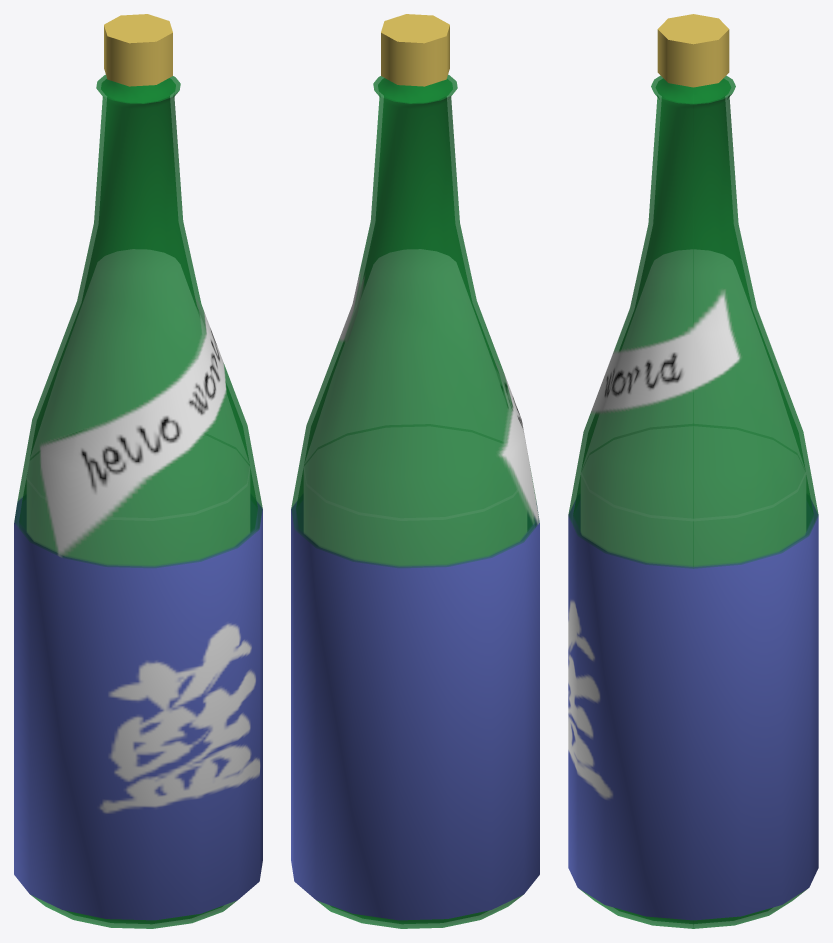
Rendered from issyoubin.glb.
The picture shows the model from 3 angles, left to right: view 1: azimuth 30°, elevation 25°; view 2: azimuth 150°, elevation 25°; view 3: azimuth 270°, elevation 25°; orthographic projection.
Parts seen in each view (by area): view 1: __X_BOTTLE__, Cylinder.001; view 2: __X_BOTTLE__, Cylinder.001, __X_LIQUID__Liquid; view 3: __X_BOTTLE__, Cylinder.001, __X_LIQUID__Liquid.
Boxes of the visible parts, <box> form: __X_BOTTLE__: <box>14,74,262,928</box>; Cylinder.001: <box>104,14,172,86</box>; __X_BOTTLE__: <box>291,74,539,928</box>; Cylinder.001: <box>381,14,449,86</box>; __X_LIQUID__Liquid: <box>304,468,517,520</box>; __X_BOTTLE__: <box>568,75,818,928</box>; Cylinder.001: <box>657,14,729,87</box>; __X_LIQUID__Liquid: <box>581,473,805,520</box>.
Size of the model in its own units: 0.105 by 0.395 by 0.105.
Materials: 3 (1 with a texture image).
